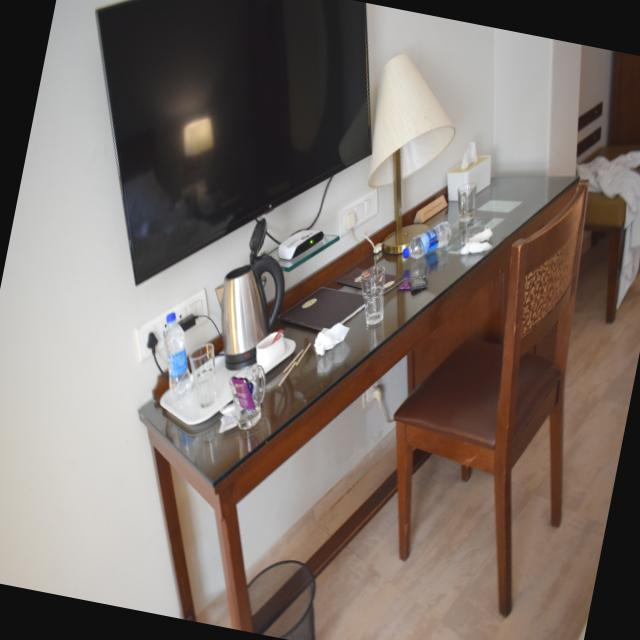mess: (128, 230, 382, 463), (350, 107, 522, 309), (563, 114, 640, 245)
